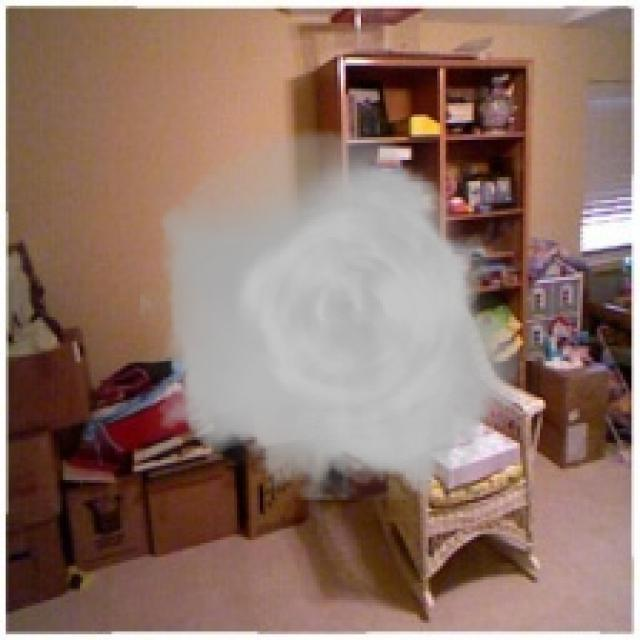Smoke: (140, 128, 537, 500)
